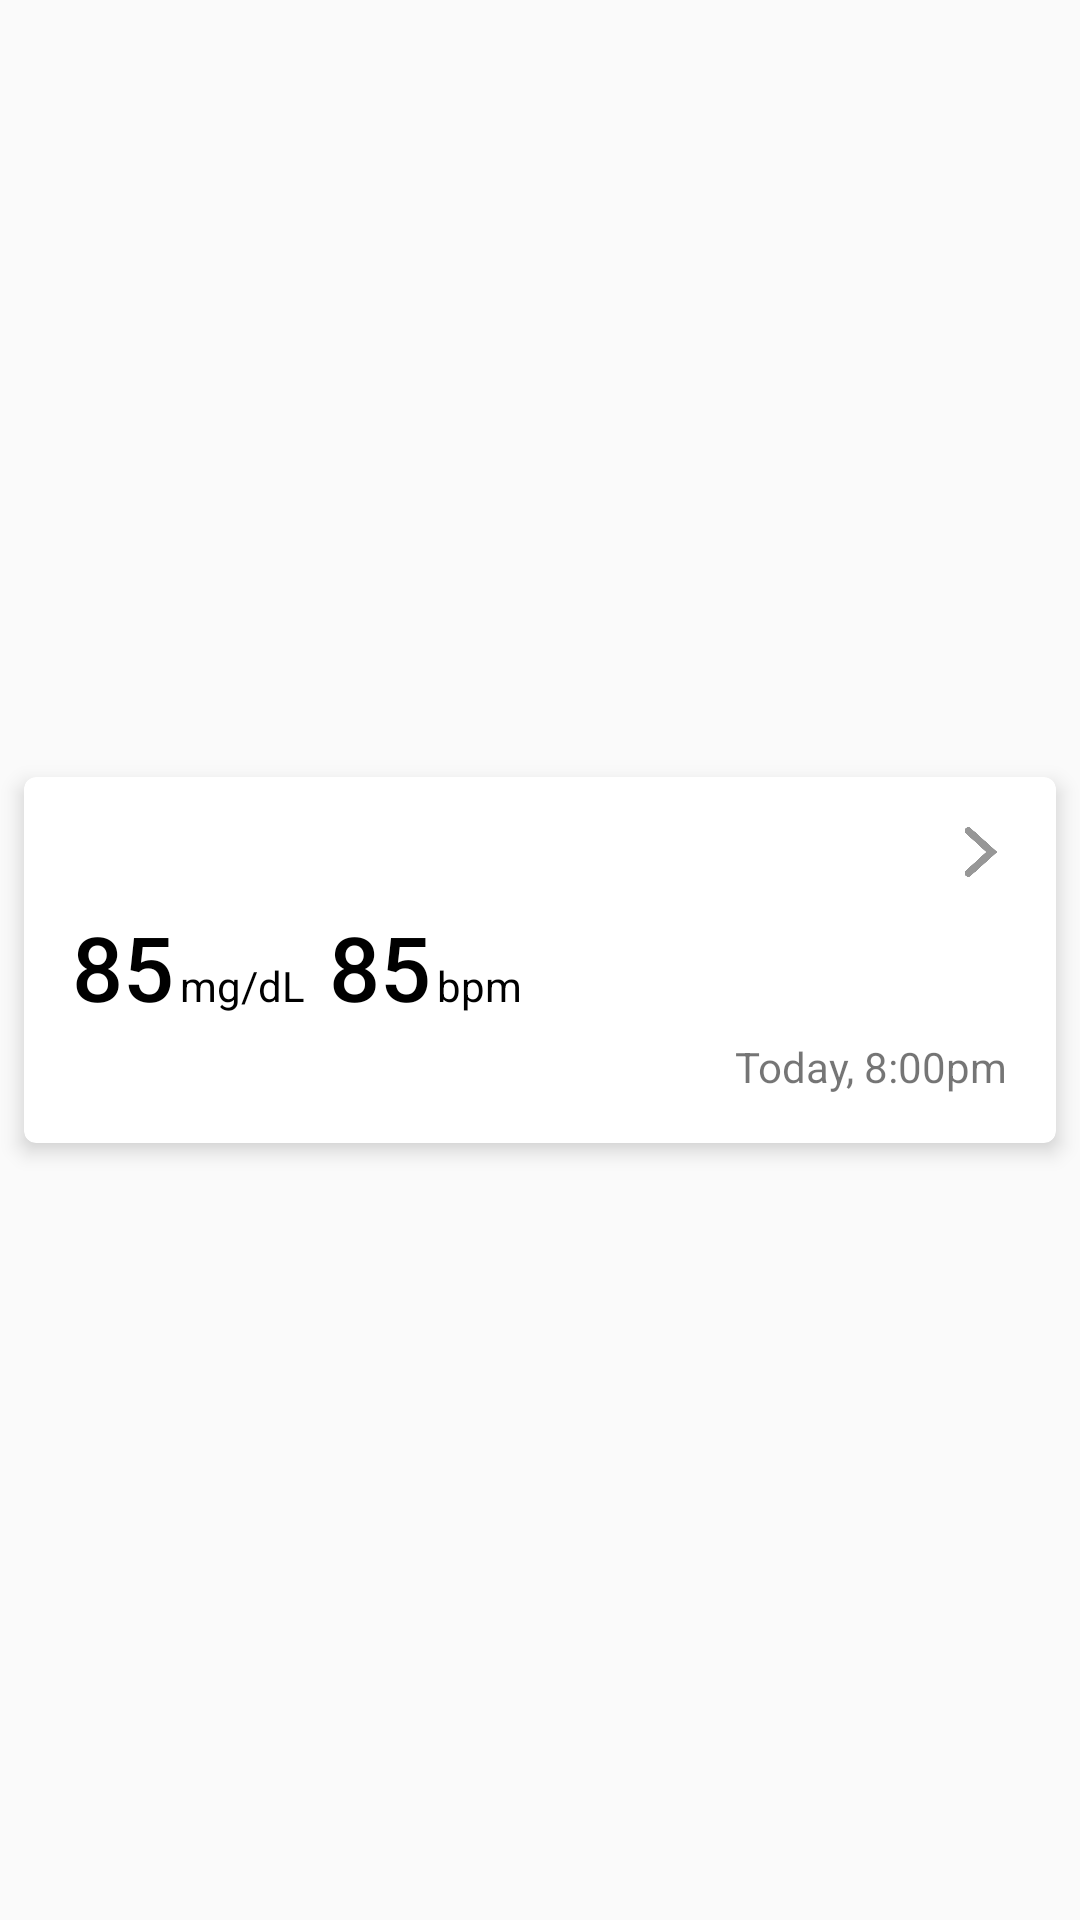

Named icons in this screenshot (1080 × 1920) and their centers, (x=x, y=y):
next: (x=981, y=852)
